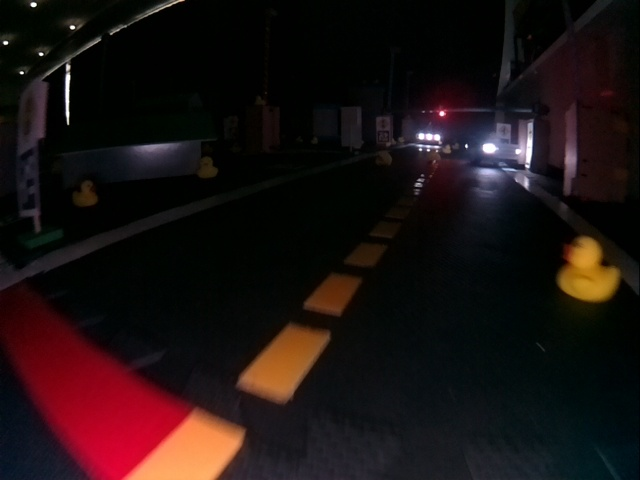Duckie: (562, 240, 614, 302), (74, 180, 97, 203), (200, 158, 215, 179)
Duckiebot: (480, 136, 518, 164), (416, 129, 443, 143)
Traffic light: (437, 111, 447, 118)
